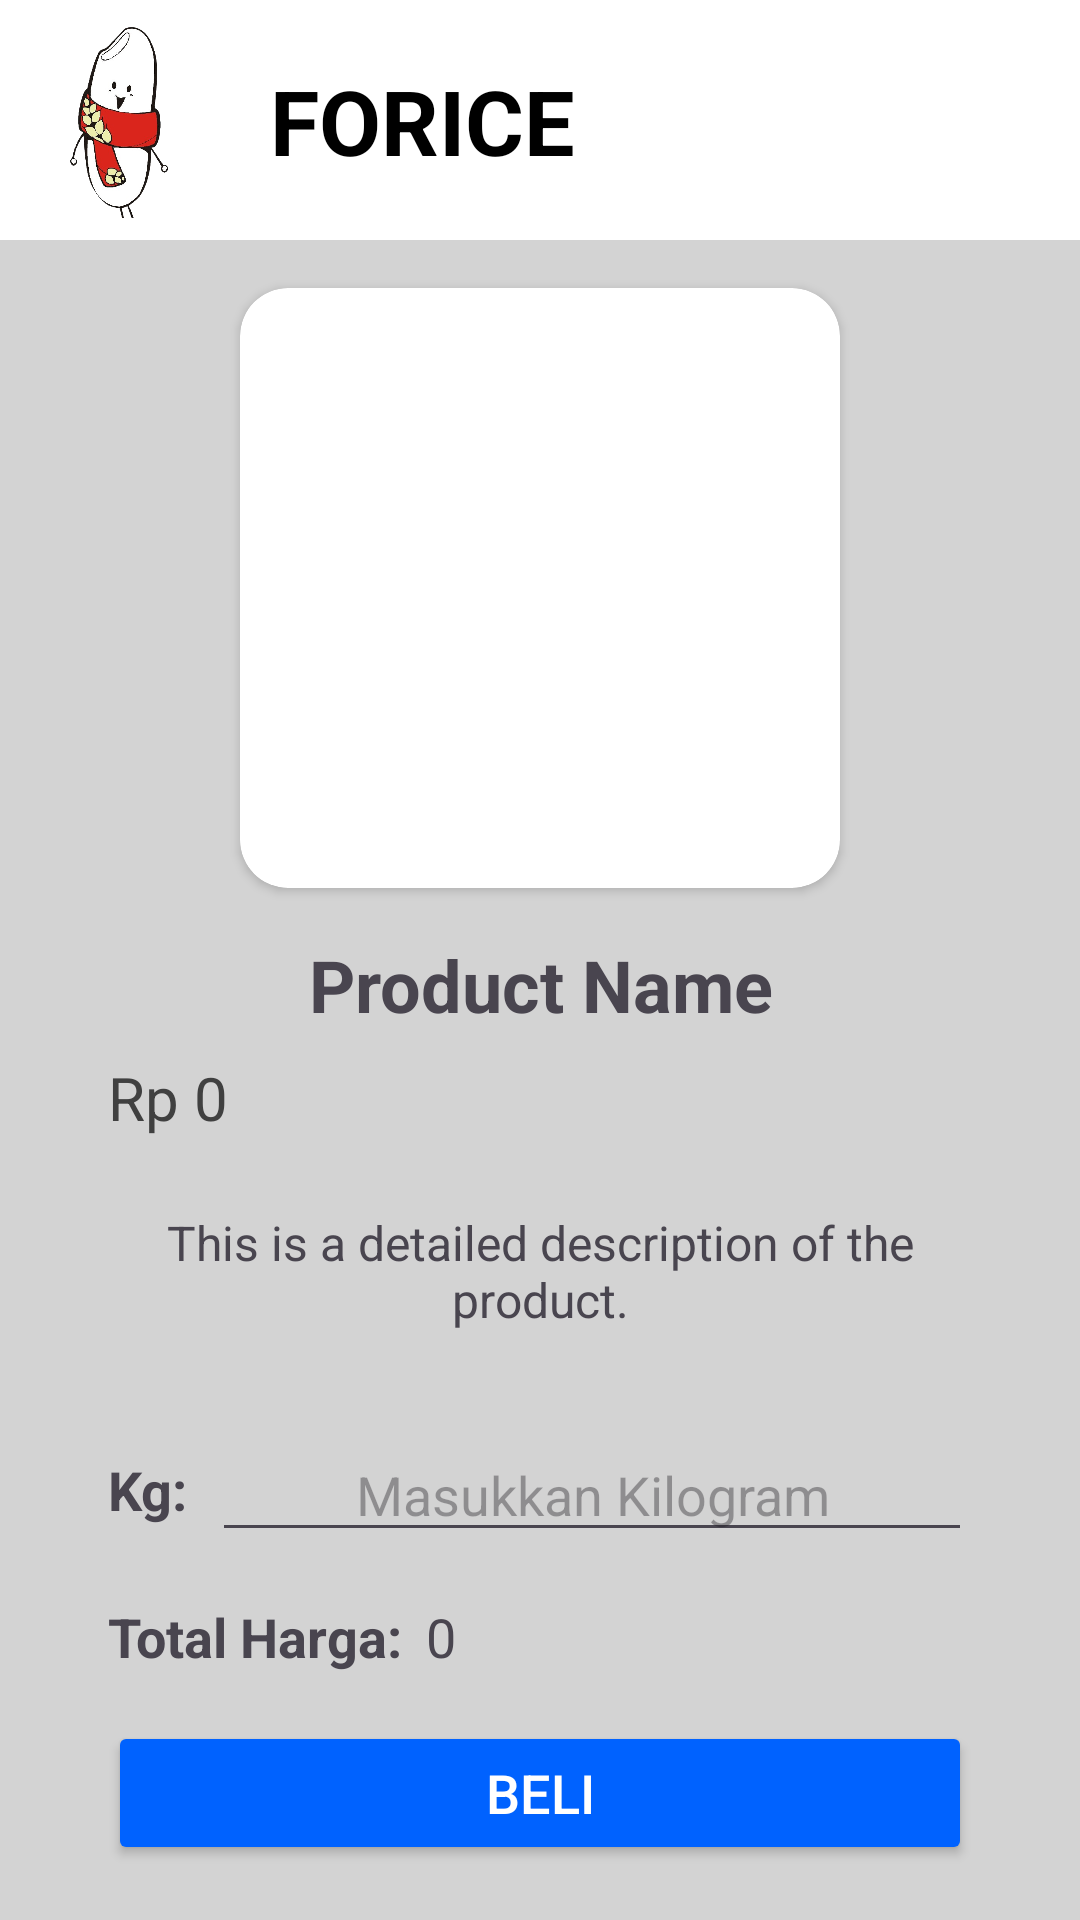

Screen size 1080 x 1920. Icon name, then its box in pixels as Rect(x1, y1, x2, y2):
forrice: Rect(70, 27, 168, 218)
